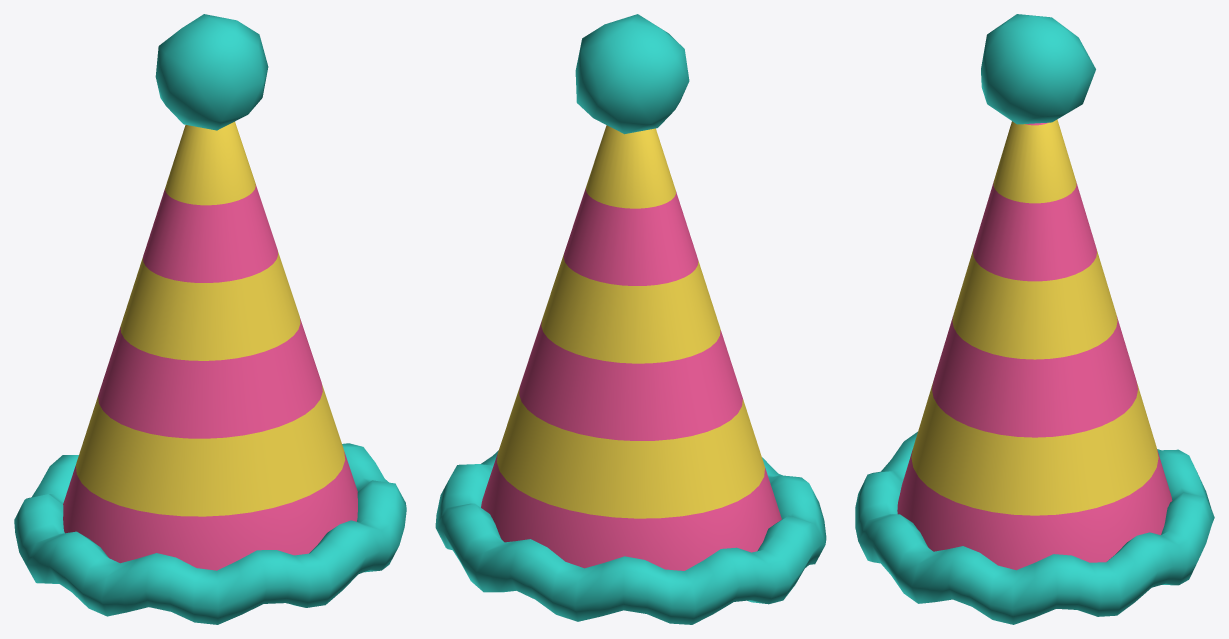
Rendered from party_cone.glb.
3 renders of one model, left to right at view 1: azimuth 30°, elevation 25°; view 2: azimuth 150°, elevation 25°; view 3: azimuth 270°, elevation 25°, orthographic.
Parts seen in each view (by area): view 1: party_cone; view 2: party_cone; view 3: party_cone.
Boxes of the visible parts, <box> form: party_cone: <box>14,14,406,624</box>; party_cone: <box>435,14,826,624</box>; party_cone: <box>855,14,1214,624</box>.
Bounding box in the file's own units: 0.512 × 0.7545 × 0.4599.
